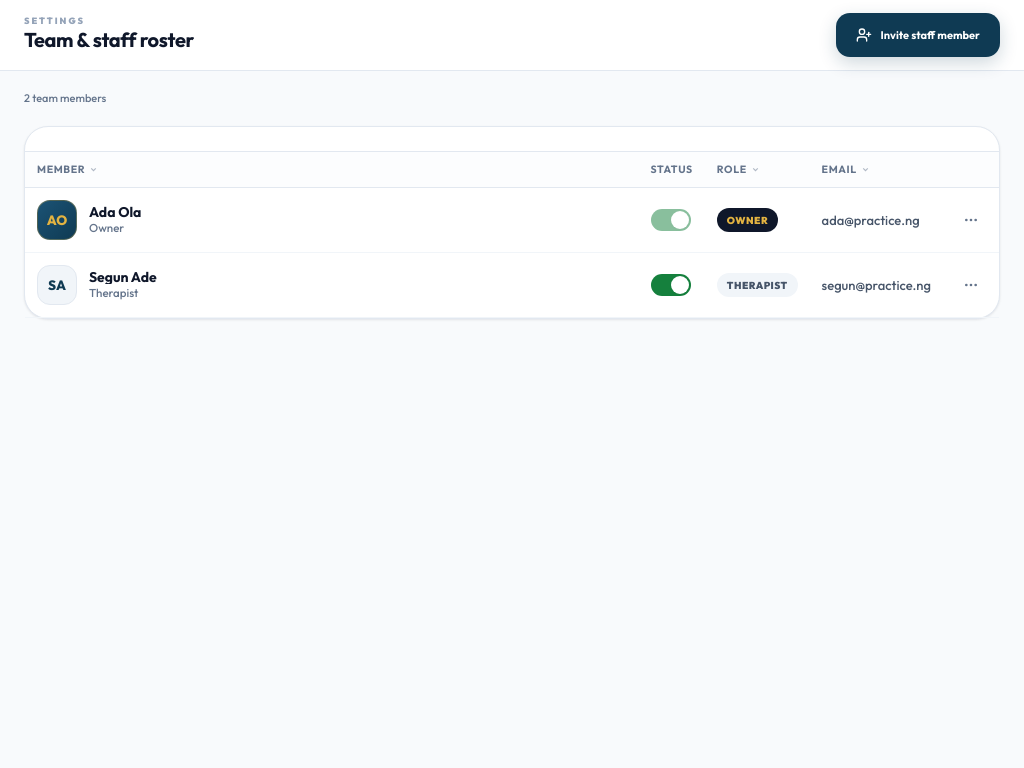
Test: inviting a staff member › does not claim an email was sent when the provider failed
Step 1. Click the button "Invite staff member" → (918, 35), box 836,13 -> 1000,57
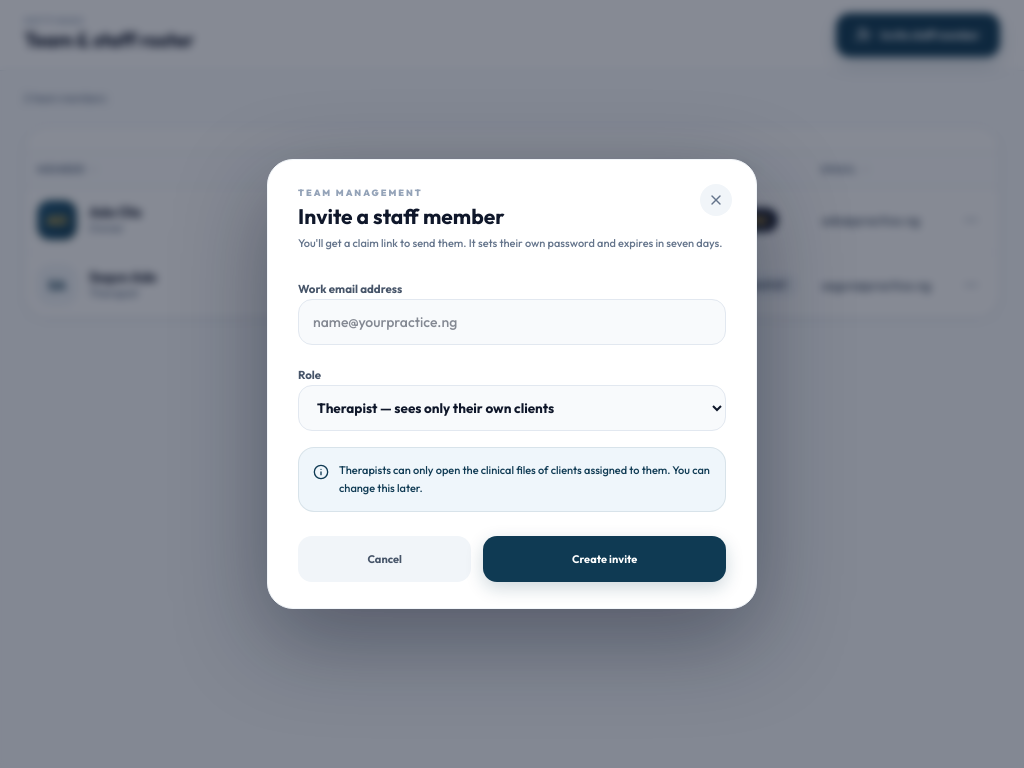
Step 2. Type "new@practice.ng" into the field with placeholder "name@yourpractice.ng" → (512, 322), box 298,299 -> 726,345
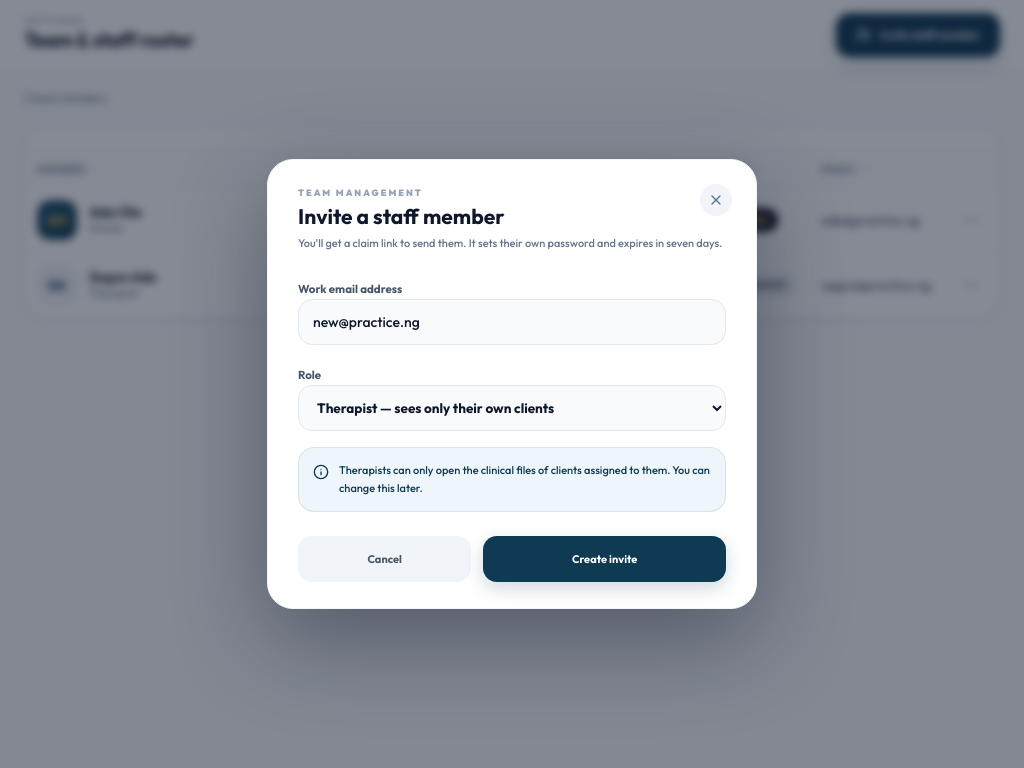
Step 3. Click the button "Create invite" → (605, 559), box 483,536 -> 726,582
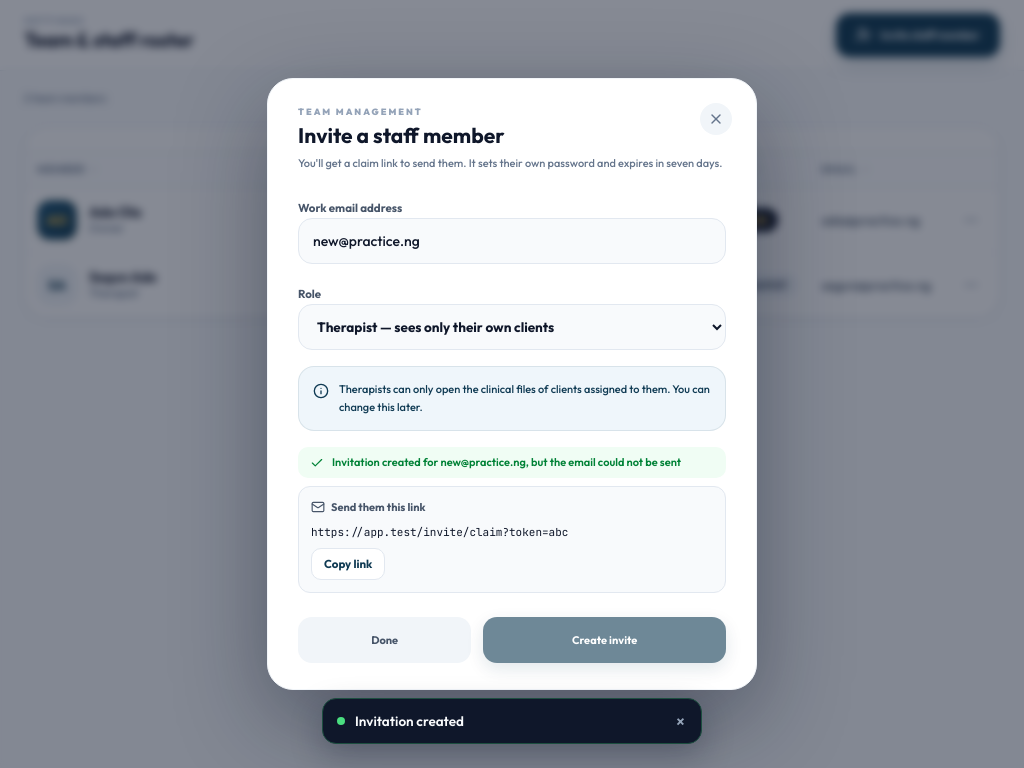
Check: the text "the email could not be sent" is shown, box 332,455 -> 681,469
